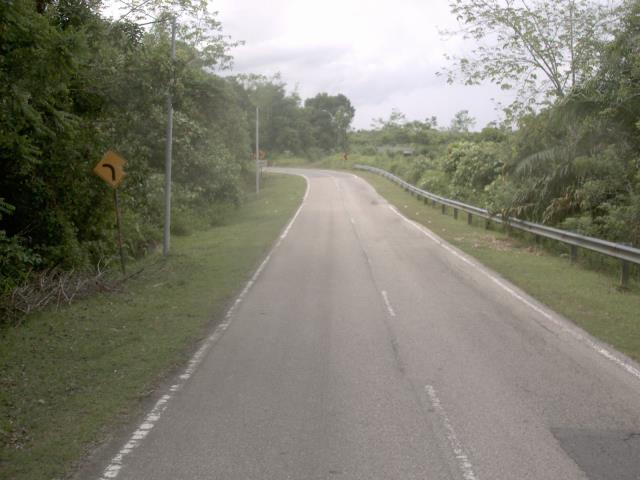traffic_sign: (83, 143, 135, 196)
